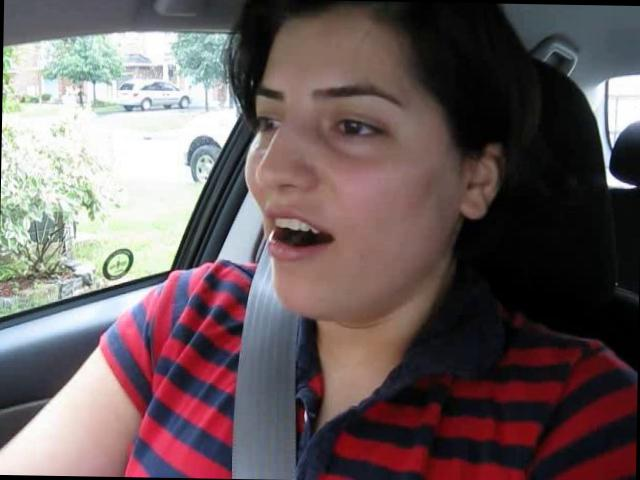eye_open: (328, 106, 396, 148), (255, 107, 284, 134)
face: (238, 59, 436, 330)
mouth_open: (264, 202, 344, 266)
